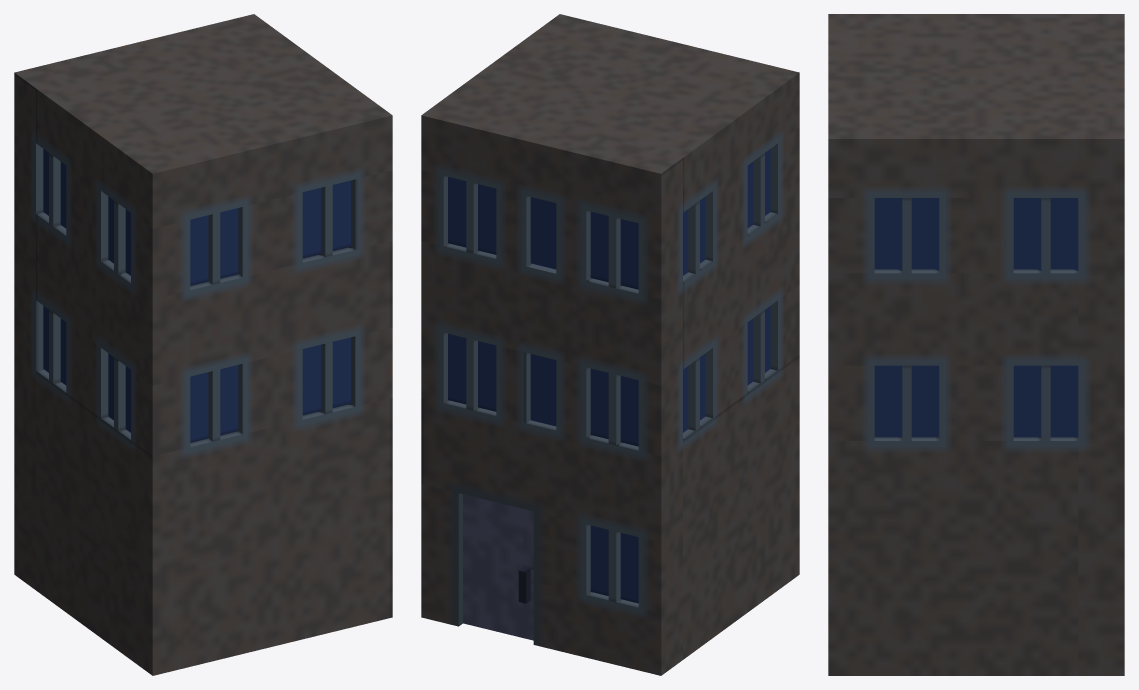
Rendered from b_dz_uni5.dae.
3 renders of one model, left to right at view 1: azimuth 30°, elevation 25°; view 2: azimuth 150°, elevation 25°; view 3: azimuth 270°, elevation 25°, orthographic. The views are drawn at different scales.
Parts seen in each view (by area): view 1: Content; view 2: Content; view 3: Content.
Boxes of the visible parts, x1,y1,x2,y2 form: Content: [14, 14, 392, 675]; Content: [421, 14, 799, 675]; Content: [828, 14, 1124, 675].
Size of the model in its own units: 32 by 64 by 32.
1 material, 1 textured.
